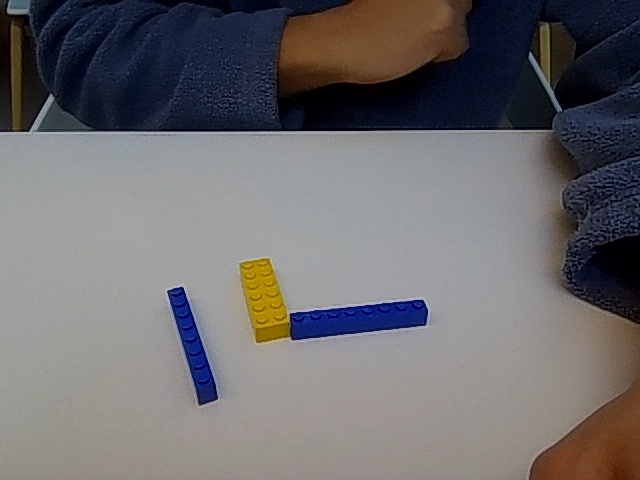lego: (161, 282, 224, 405), (289, 300, 426, 335), (236, 256, 288, 341)
